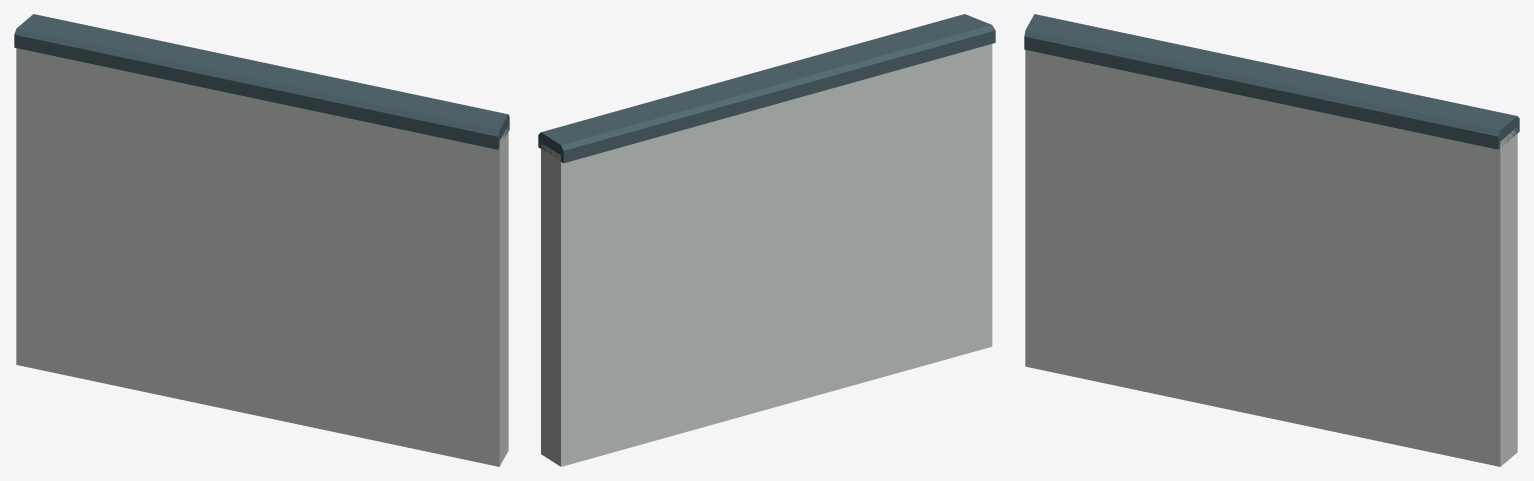
File: halfwall_26_port_miter_10000_-2361_8944_-4472.glb
The picture shows the model from 3 angles, left to right: view 1: azimuth 90°, elevation 25°; view 2: azimuth 150°, elevation 25°; view 3: azimuth 270°, elevation 25°; orthographic projection. The views are drawn at different scales.
Visible parts, largest first — view 1: Seamless solid halfwall.030, Seamless top cap.030; view 2: Seamless solid halfwall.030, Seamless top cap.030; view 3: Seamless solid halfwall.030, Seamless top cap.030.
Part boxes in pixels (<box>): Seamless solid halfwall.030: <box>16,48,508,466</box>; Seamless top cap.030: <box>14,14,509,149</box>; Seamless solid halfwall.030: <box>541,44,992,466</box>; Seamless top cap.030: <box>538,14,995,163</box>; Seamless solid halfwall.030: <box>1025,50,1517,466</box>; Seamless top cap.030: <box>1024,14,1519,149</box>.
Bounding box in the file's own units: 0.5947 × 0.775 × 1.03.
